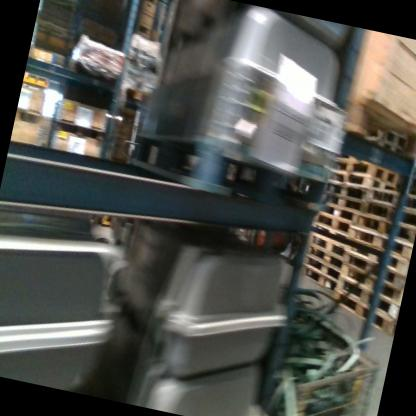pallet: (129, 129, 330, 212), (339, 93, 416, 160), (326, 287, 401, 338), (335, 261, 407, 307), (332, 275, 404, 321), (339, 234, 412, 278), (338, 248, 409, 290), (343, 224, 414, 260), (347, 211, 416, 248), (357, 197, 416, 230), (335, 155, 399, 185), (332, 169, 400, 195), (360, 183, 416, 213), (299, 264, 340, 296), (52, 118, 106, 142), (300, 253, 342, 282), (315, 197, 357, 224), (306, 231, 346, 258), (304, 243, 344, 270), (310, 210, 350, 235), (318, 191, 362, 213), (324, 178, 364, 202), (308, 223, 347, 247), (119, 85, 154, 105), (24, 71, 49, 85), (134, 23, 151, 37)
stillage: (254, 292, 390, 416)
